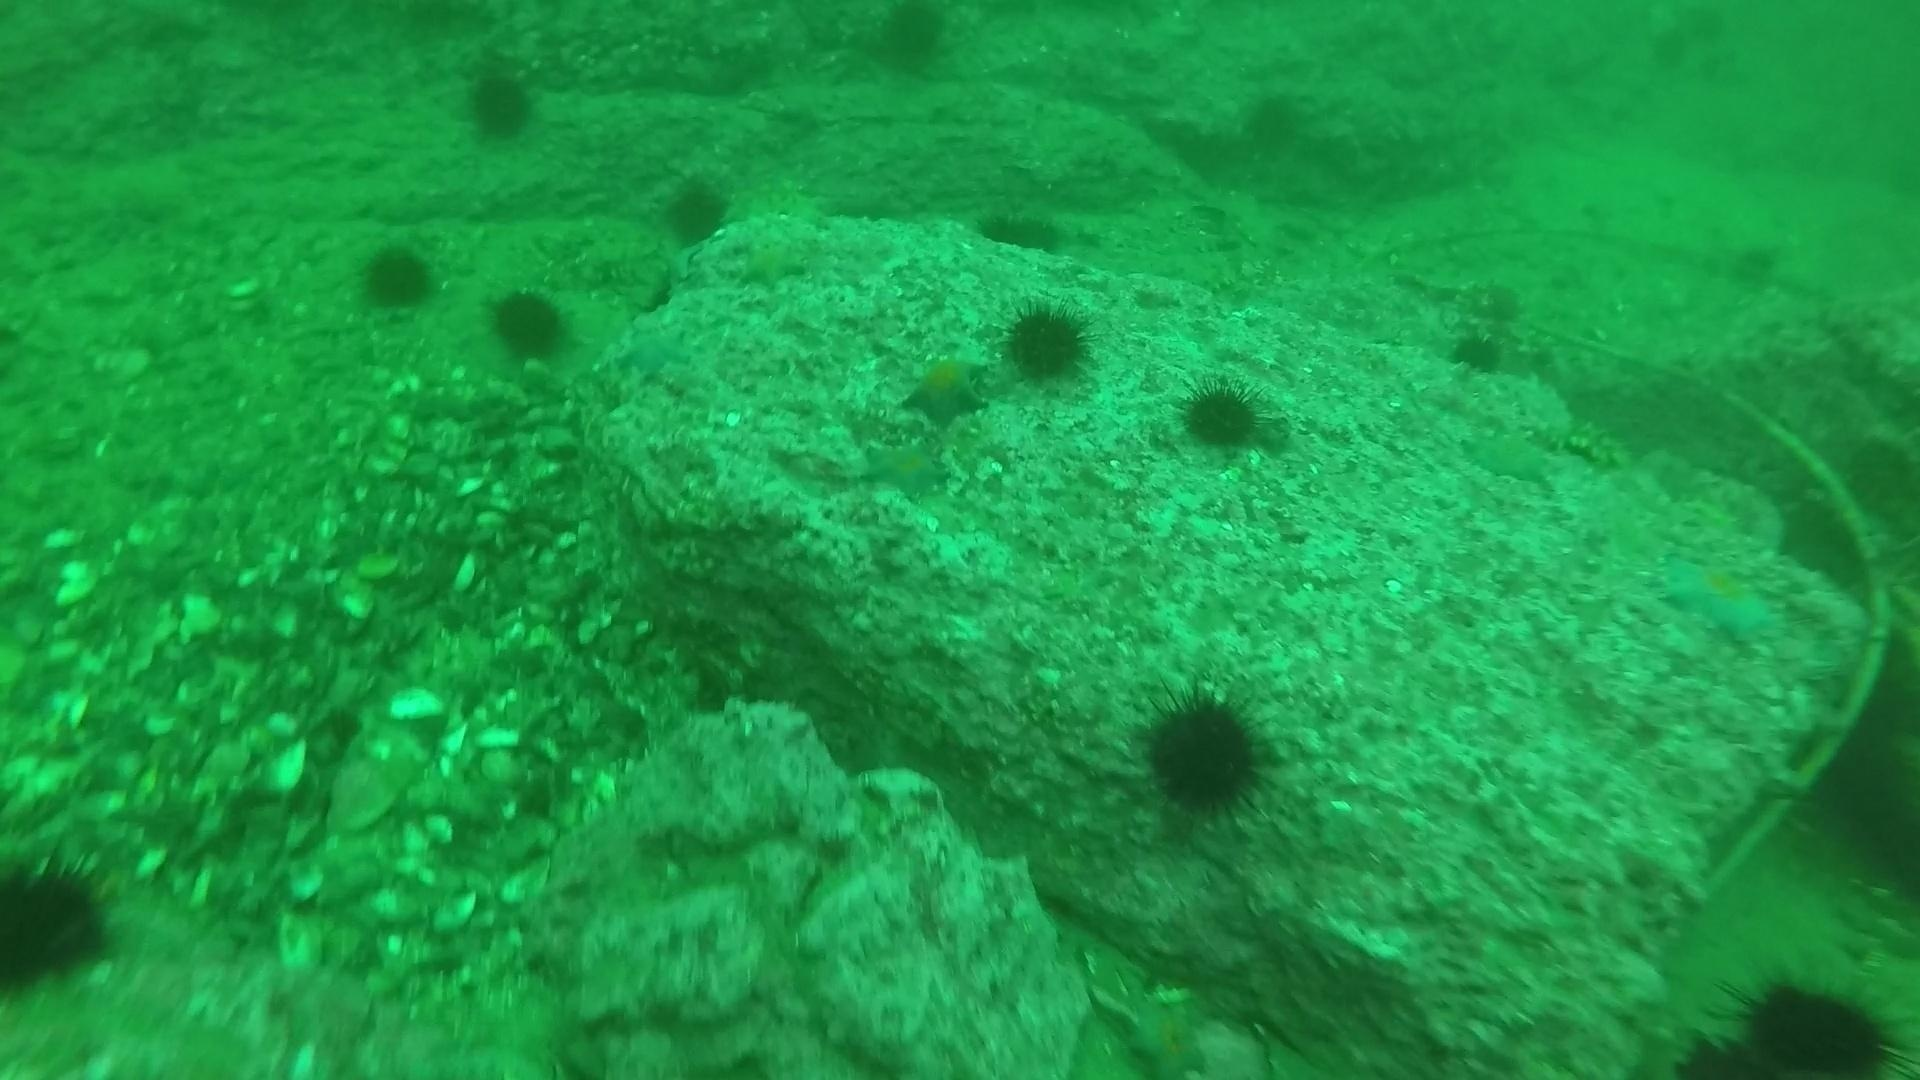echinus: (1133, 682, 1278, 823), (1724, 969, 1905, 1076), (1, 843, 123, 1000), (997, 295, 1098, 390), (1174, 375, 1282, 460), (483, 281, 578, 367), (865, 1, 960, 80), (458, 61, 543, 146), (352, 237, 442, 316), (653, 169, 737, 252), (1238, 87, 1309, 158), (1443, 320, 1511, 380), (1004, 200, 1062, 255), (969, 212, 1025, 251)
holothurian: (567, 232, 670, 311), (1183, 256, 1251, 305), (1548, 415, 1615, 464)
starfish: (1654, 549, 1789, 647), (1095, 973, 1220, 1079), (895, 345, 996, 427), (856, 435, 953, 502), (1460, 429, 1564, 489), (611, 318, 699, 382), (727, 233, 816, 291)
